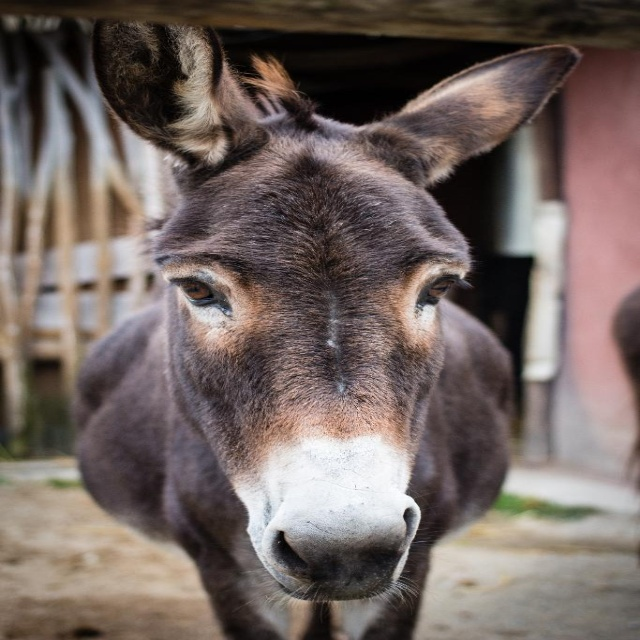Mule: (72, 17, 583, 640)
